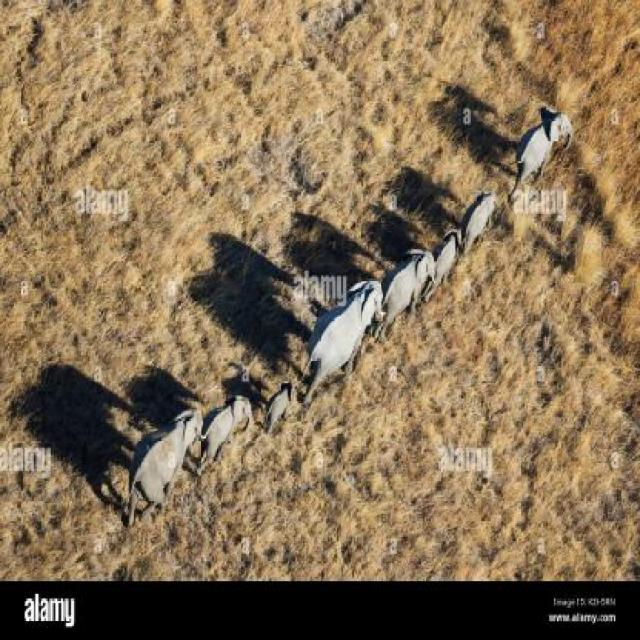elephant: (115, 402, 211, 515), (300, 267, 380, 396), (512, 101, 578, 197), (382, 238, 436, 339), (200, 387, 254, 473), (460, 176, 498, 258), (432, 218, 460, 296), (264, 376, 298, 430)
